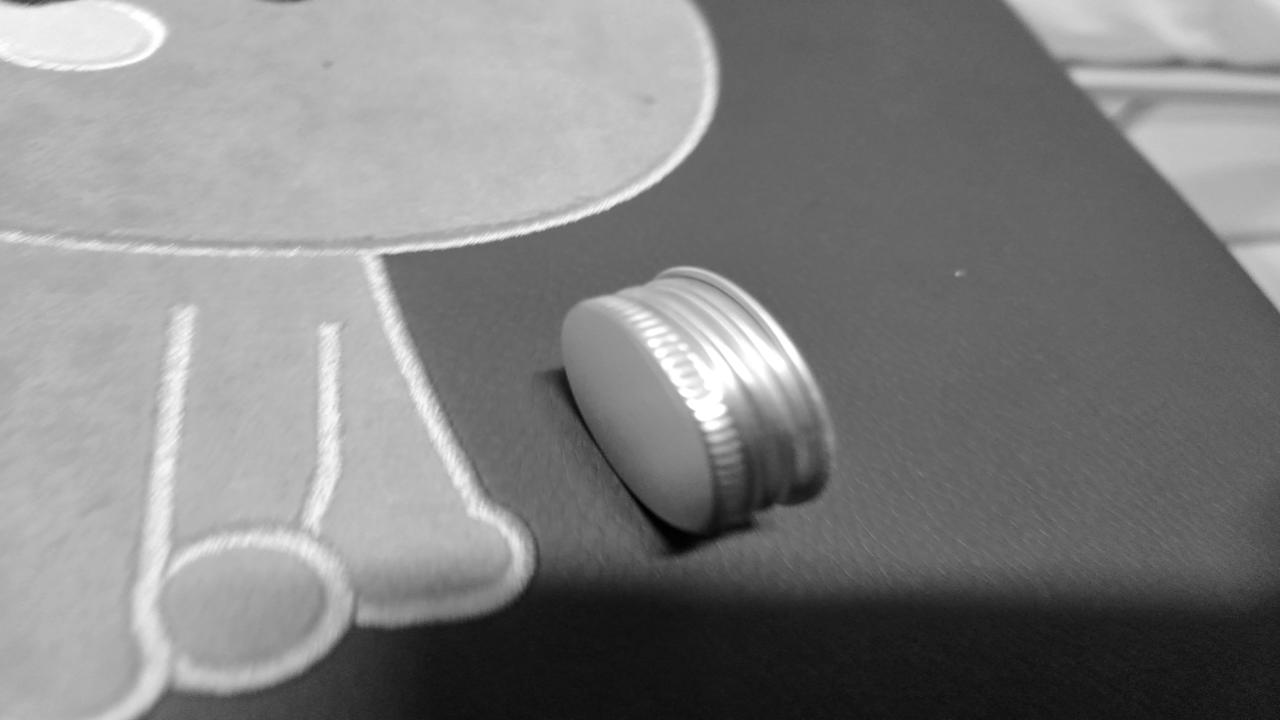bottle_cap: (556, 265, 838, 537)
